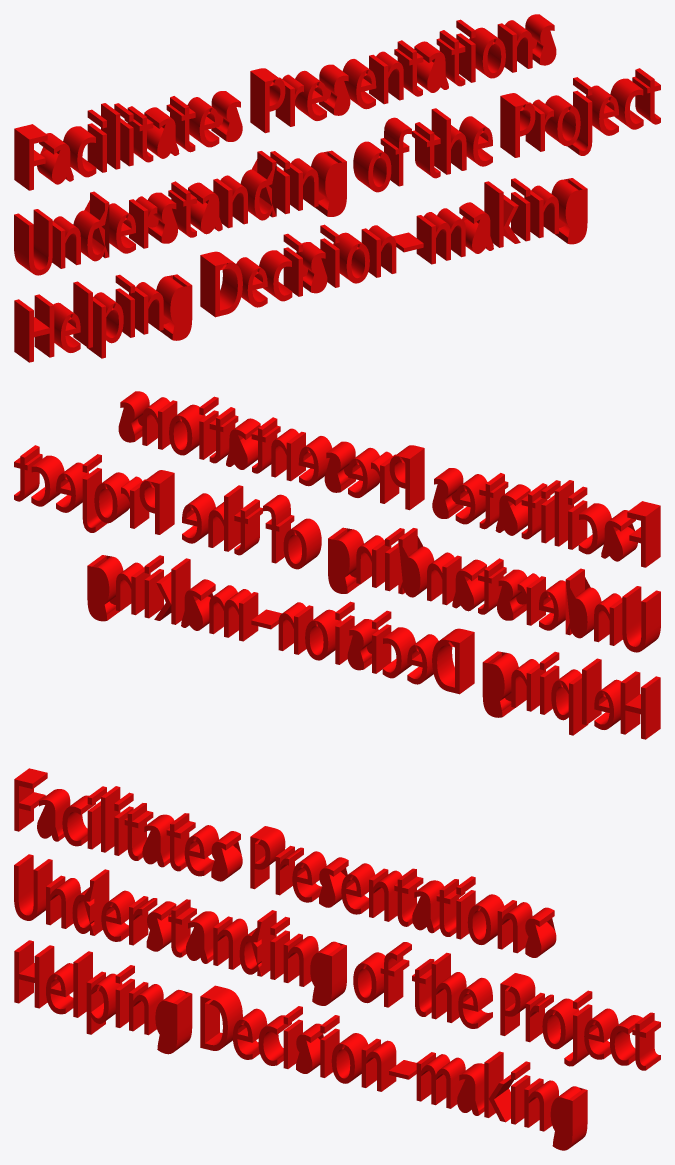
3 views of the same model, one above another, from view 1: azimuth 30°, elevation 25°; view 2: azimuth 150°, elevation 25°; view 3: azimuth 330°, elevation 25° (orthographic).
Parts seen in each view (by area): view 1: typeMesh1; view 2: typeMesh1; view 3: typeMesh1.
Part boxes in pixels (box(x1,y1,x2,y2)): typeMesh1: box(14, 14, 660, 362); typeMesh1: box(14, 391, 660, 739); typeMesh1: box(14, 768, 660, 1150).
Bounding box in the file's own units: 7.81 × 2.85 × 0.3207.
